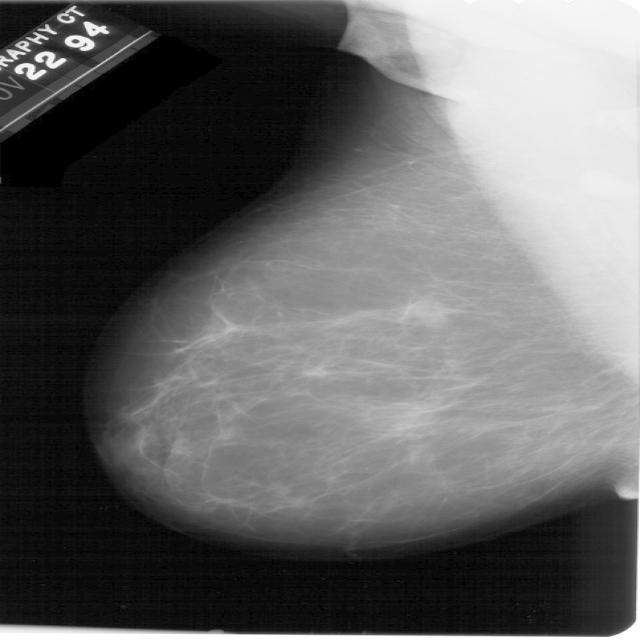tumour: (407, 298, 445, 326)
